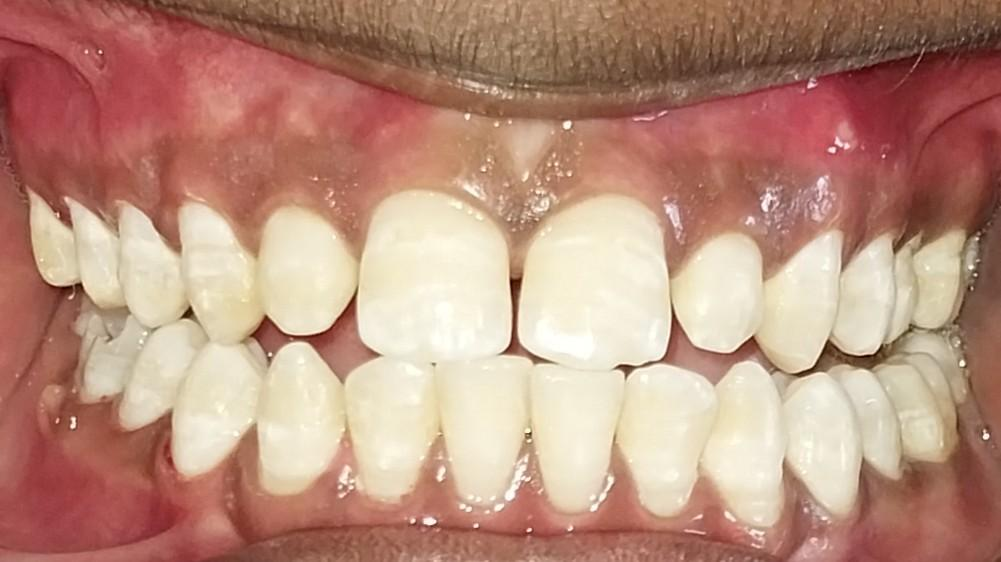D: (68, 304, 150, 408)
